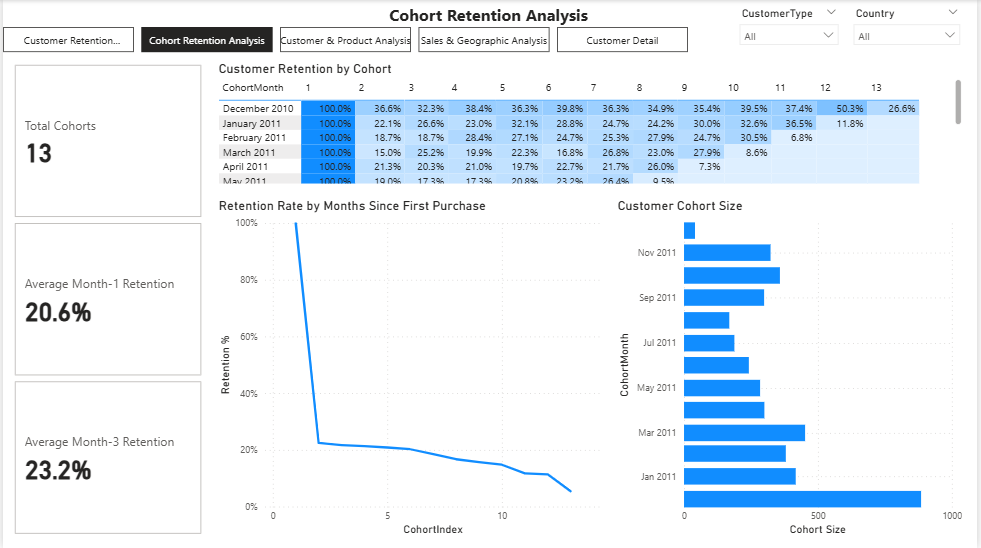

Layout of this report page (visuals, bound fields, positions):
{"tool":"powerbi","page":{"name":"Cohort Retention Analysis","canvas":[1280,720],"ordinal":1},"visuals":[{"type":"textbox","box":[10.1,0,1254.8,62.2],"z":0},{"type":"cardVisual","fields":{"Data":["All Measures.Total Cohorts","All Measures.Average Month-1 Retention","All Measures.Average Month-3 Retention"]},"box":[10.1,80.6,255.3,628.2],"z":1000},{"type":"pivotTable","title":"Customer Retention by Cohort","fields":{"Values":["All Measures.Retention %"],"Columns":["customer_retention_powerbi.CohortIndex"],"Rows":["customer_retention_powerbi.CohortMonth"]},"box":[278.8,80.6,986,166.3],"z":2000},{"type":"lineChart","title":"Retention Rate by Months Since First Purchase","fields":{"Y":["All Measures.Retention %"],"Category":["customer_retention_powerbi.CohortIndex"]},"box":[278.8,260.4,512.3,448.5],"z":3000},{"type":"barChart","title":"Customer Cohort Size","fields":{"Y":["All Measures.Cohort Size"],"Category":["customer_retention_powerbi.CohortMonth"]},"box":[802.9,260.4,461.9,448.5],"z":4000},{"type":"slicer","fields":{"Values":["customer_retention_powerbi.Country"]},"box":[1107,3.4,159.6,62.2],"z":5000},{"type":"slicer","fields":{"Values":["customer_retention_powerbi.CustomerType"]},"box":[957.5,3.4,149.5,63.8],"z":6000},{"type":"pageNavigator","box":[0,35.2,904.7,33.7],"z":7000}]}

Visuals, with their boxes on the page's 1280x720 design canvas (x1, y1, x2, y2). These are canvas units, not pixel positions in the 981x548 screenshot, which may show the page scaled, cropped or inside an application window:
textbox: BBox(10, 0, 1265, 62)
cardVisual - All Measures.Total Cohorts x All Measures.Average Month-1 Retention: BBox(10, 81, 265, 709)
"Customer Retention by Cohort" pivotTable: BBox(279, 81, 1265, 247)
"Retention Rate by Months Since First Purchase" lineChart: BBox(279, 260, 791, 709)
"Customer Cohort Size" barChart: BBox(803, 260, 1265, 709)
slicer - customer_retention_powerbi.Country: BBox(1107, 3, 1267, 66)
slicer - customer_retention_powerbi.CustomerType: BBox(958, 3, 1107, 67)
pageNavigator: BBox(0, 35, 905, 69)
